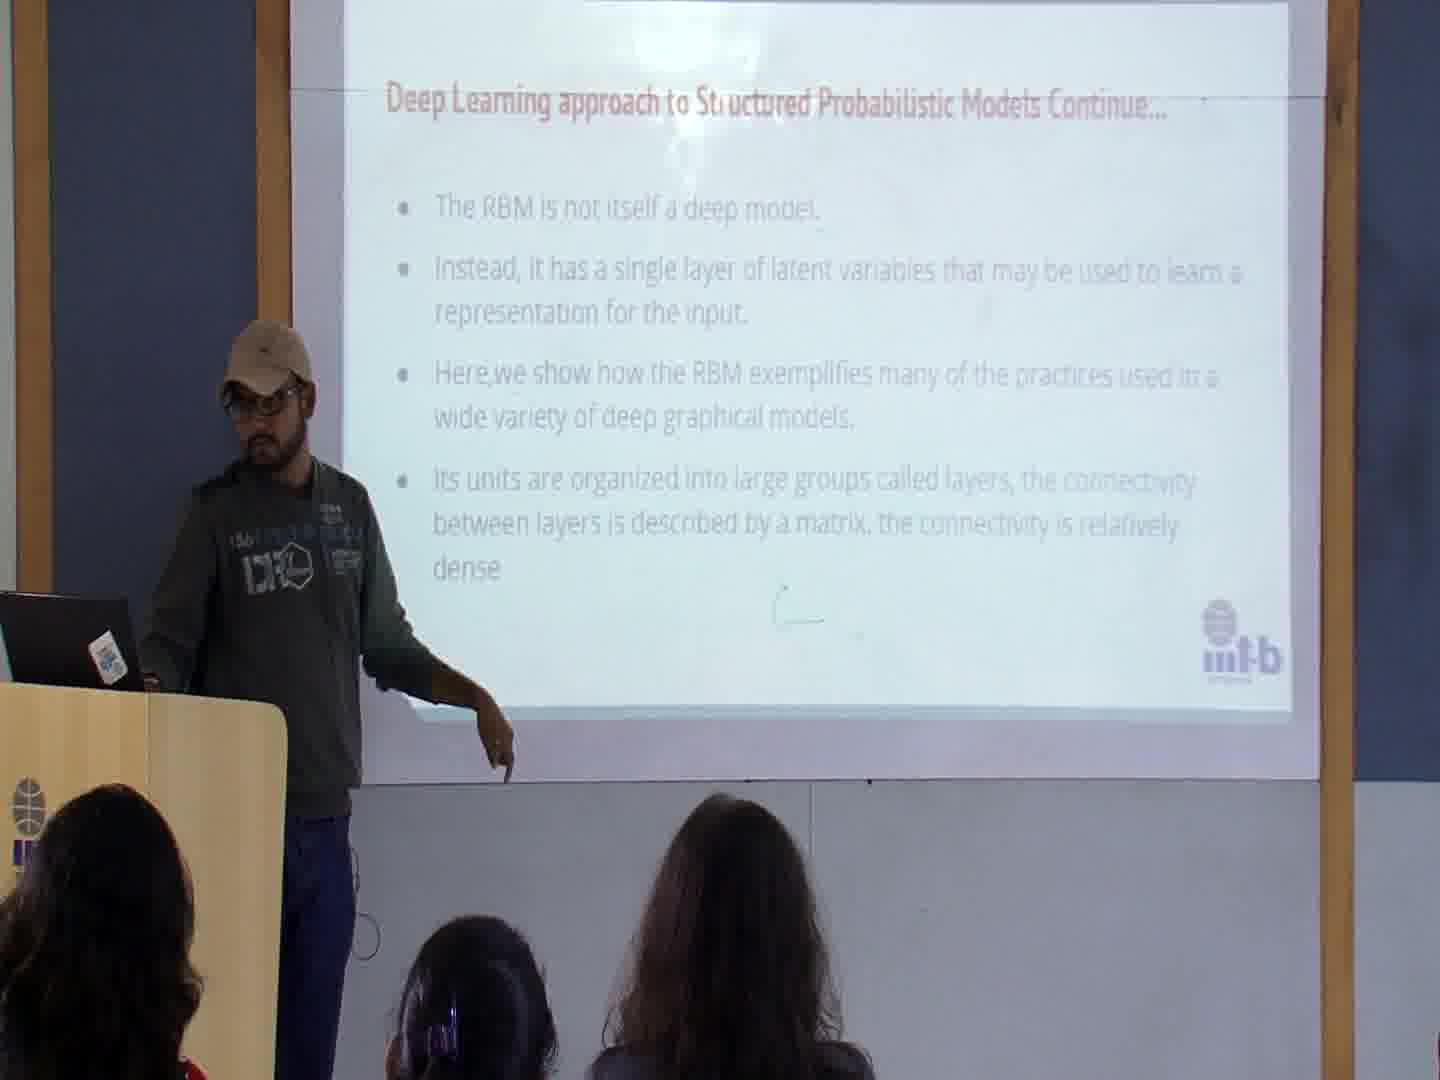slide: (344, 5, 1288, 725)
